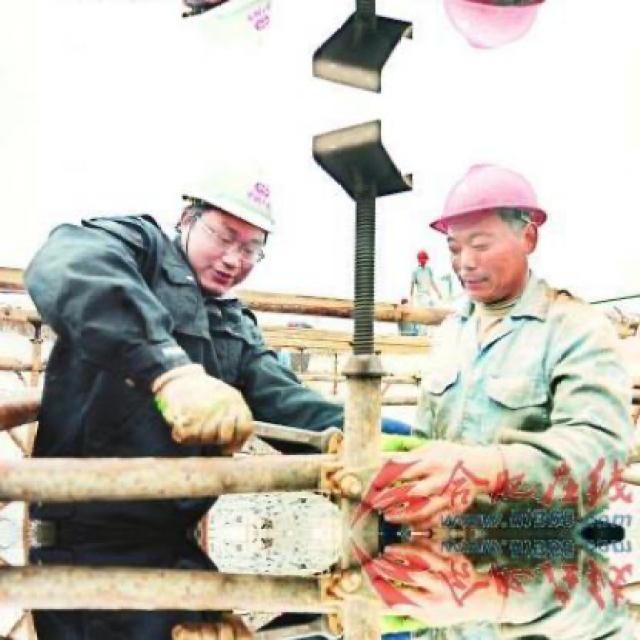helmet: (415, 150, 560, 306), (163, 142, 294, 298), (161, 0, 293, 72), (416, 0, 562, 65)
